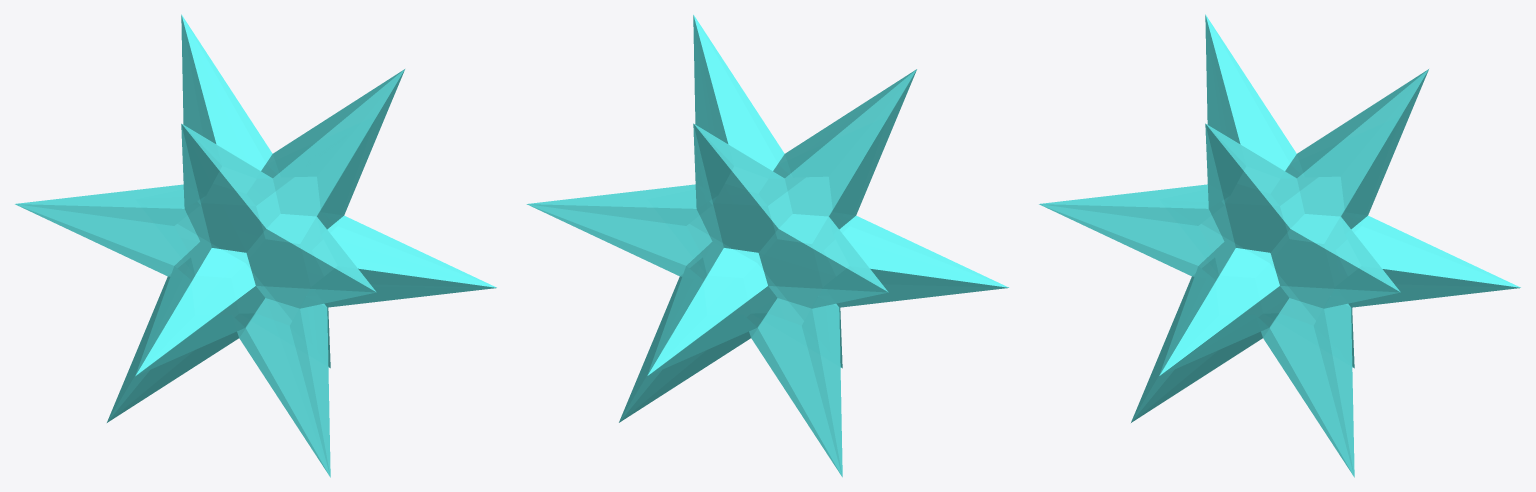
File: ico_kites.obj
3 views of the same model, side by side, from view 1: azimuth 30°, elevation 25°; view 2: azimuth 150°, elevation 25°; view 3: azimuth 270°, elevation 25° (orthographic).
Bounding box in the file's own units: 16.82 × 15.72 × 19.42.
